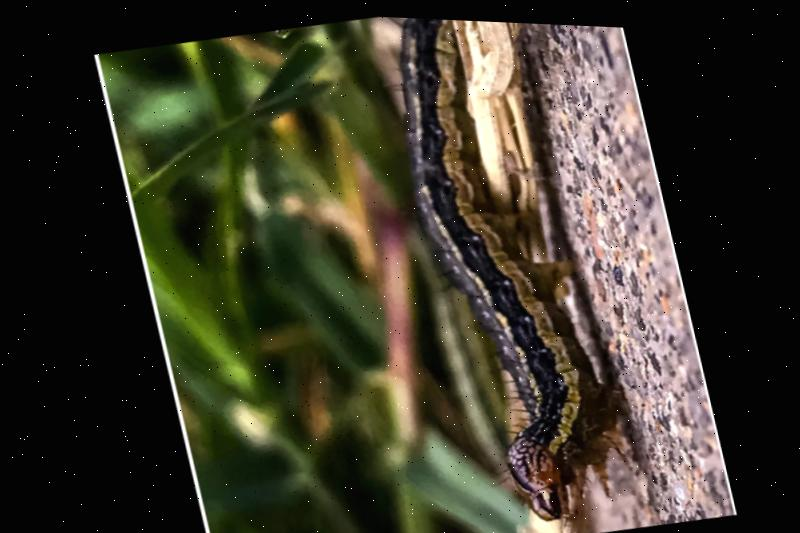fall-armyworm: (400, 15, 622, 518)
